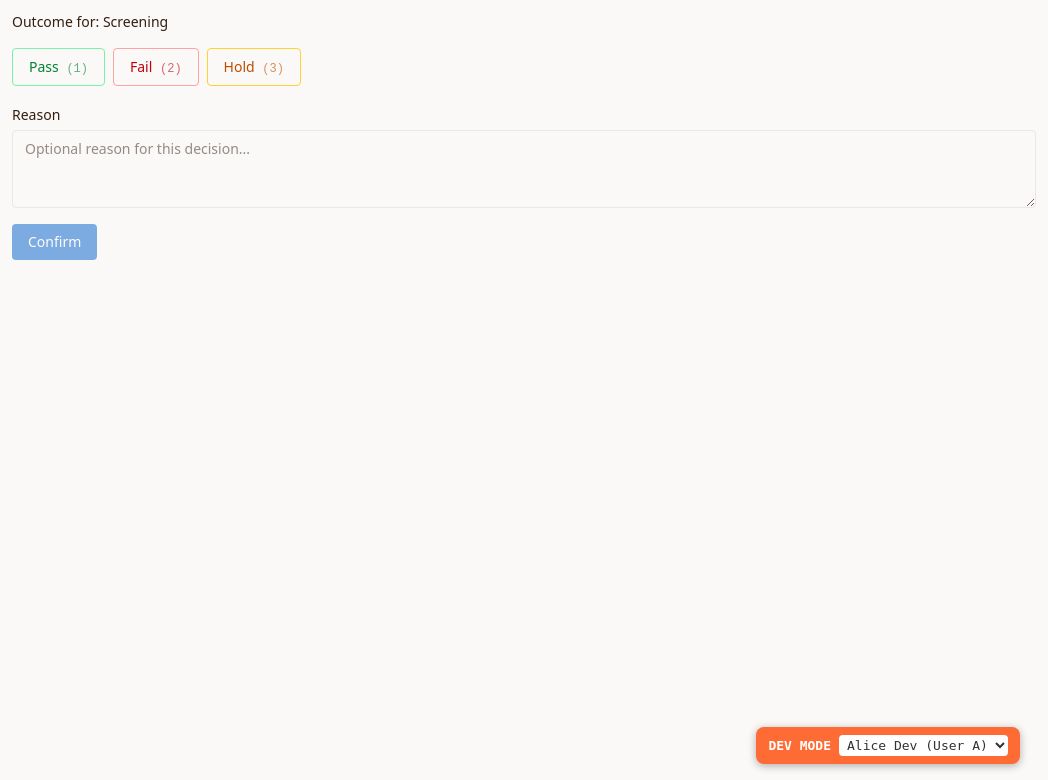
it: OutcomeForm › should show error on API failure
Click the button "Pass (1)" at (58, 67), box x1=12 y1=48 x2=105 y2=86
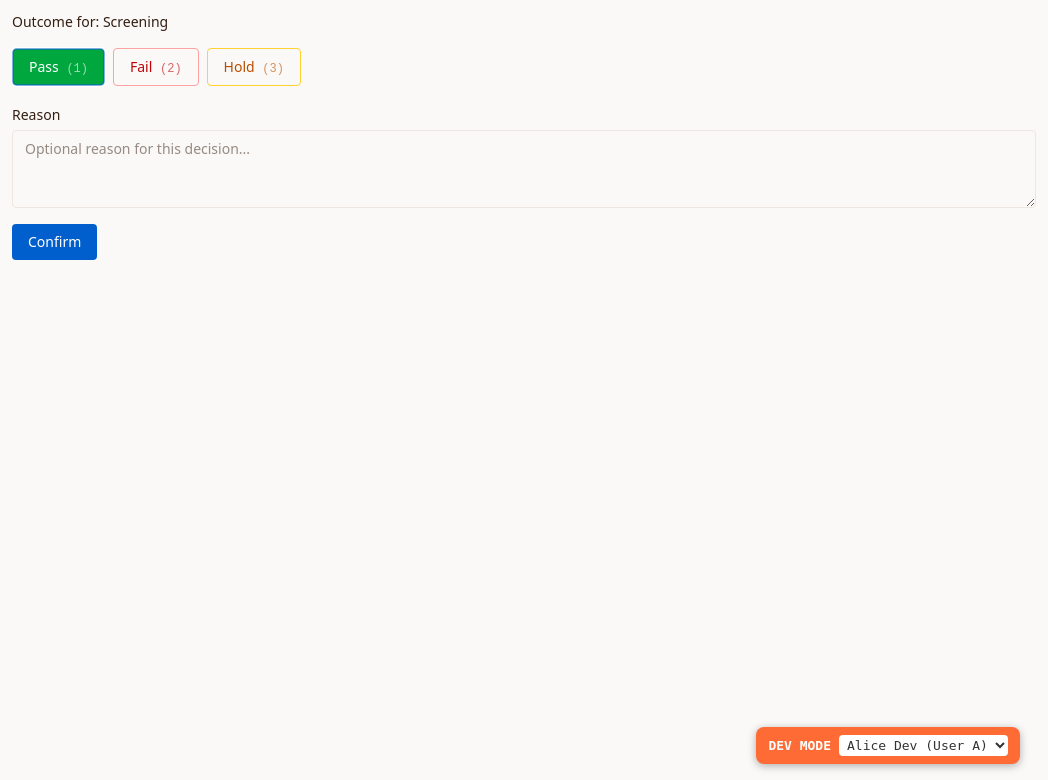
Click the button "Confirm" at (55, 242), box x1=12 y1=224 x2=97 y2=260
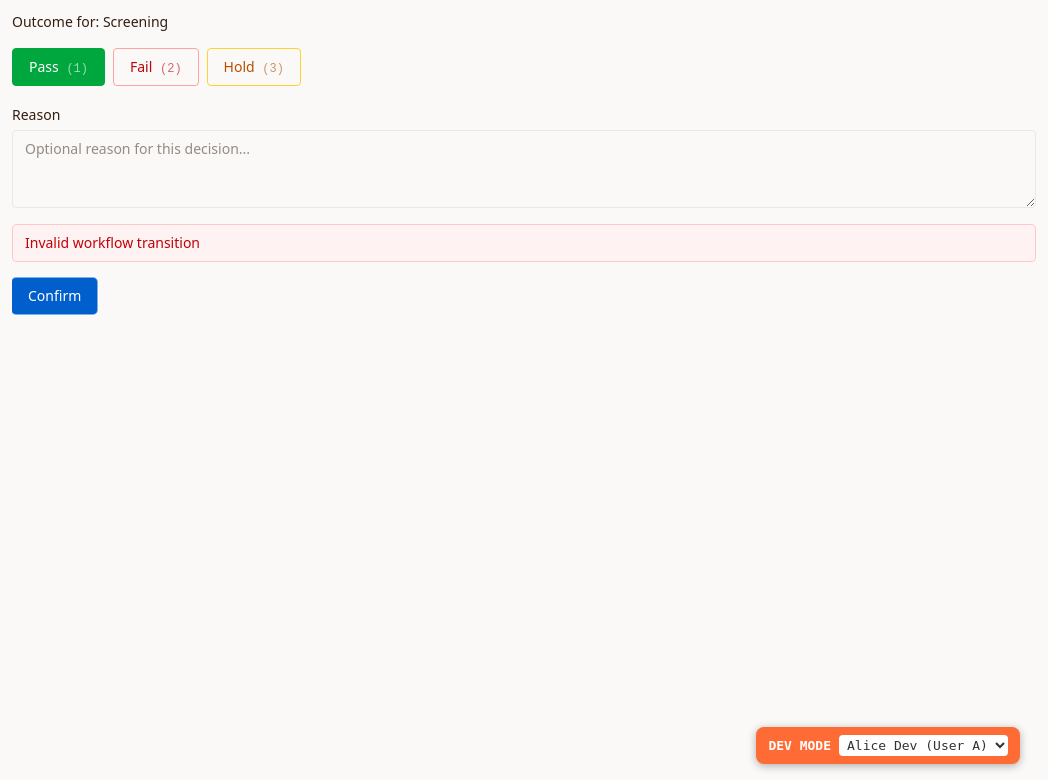
Check: the message "Invalid workflow transition" is shown, box x1=12 y1=224 x2=1036 y2=262
